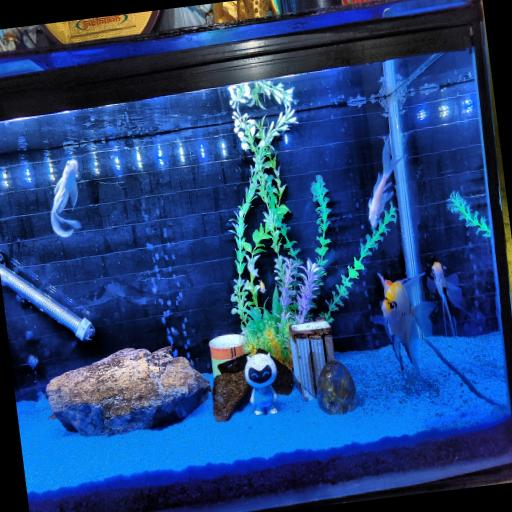Fish: (374, 274, 434, 380), (368, 137, 400, 228), (427, 257, 460, 336), (50, 160, 79, 237), (259, 282, 265, 293)
